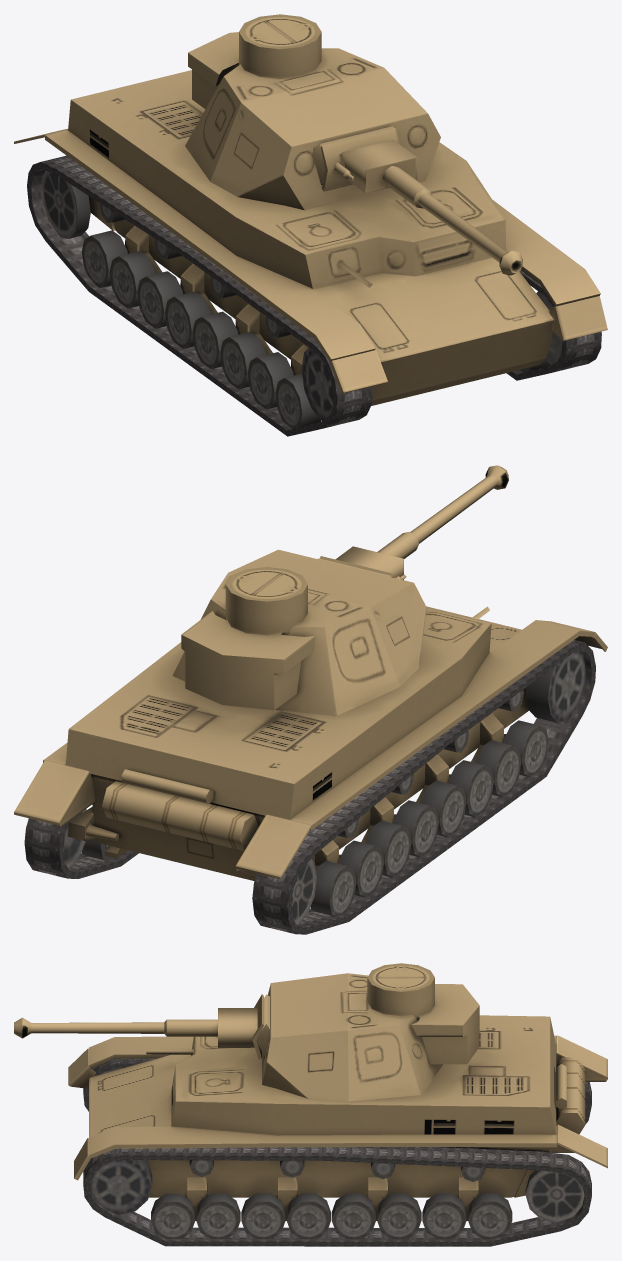
The model's file is Tank_PanzerIV_G.FBX.
3 renders of one model, top to bottom at view 1: azimuth 30°, elevation 25°; view 2: azimuth 150°, elevation 25°; view 3: azimuth 270°, elevation 25°, orthographic. The views are drawn at different scales.
Parts seen in each view (by area): view 1: IV号G型_body, IV号G型_battery, IV号G型_track, IV号G型_barrel; view 2: IV号G型_body, IV号G型_battery, IV号G型_track, IV号G型_barrel; view 3: IV号G型_body, IV号G型_battery, IV号G型_track, IV号G型_barrel.
Boxes of the visible parts, x1,y1,x2,y2 form: IV号G型_body: (14, 70, 607, 428); IV号G型_battery: (185, 14, 440, 210); IV号G型_track: (27, 155, 601, 436); IV号G型_barrel: (418, 193, 522, 275); IV号G型_body: (14, 606, 607, 924); IV号G型_battery: (172, 531, 426, 715); IV号G型_track: (24, 640, 595, 934); IV号G型_barrel: (410, 465, 508, 543); IV号G型_body: (68, 1015, 607, 1239); IV号G型_battery: (164, 963, 479, 1101); IV号G型_track: (83, 1058, 591, 1246); IV号G型_barrel: (14, 1017, 164, 1038).
Bounding box in the file's own units: 2.83 × 2.67 × 6.59.
